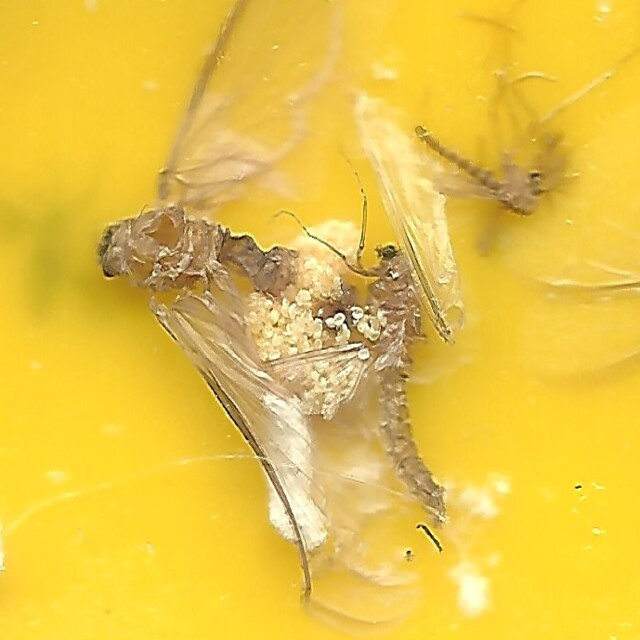Ephemeroptera: (93, 208, 352, 320), (363, 240, 449, 521)
Nematocera: (411, 119, 547, 222)
